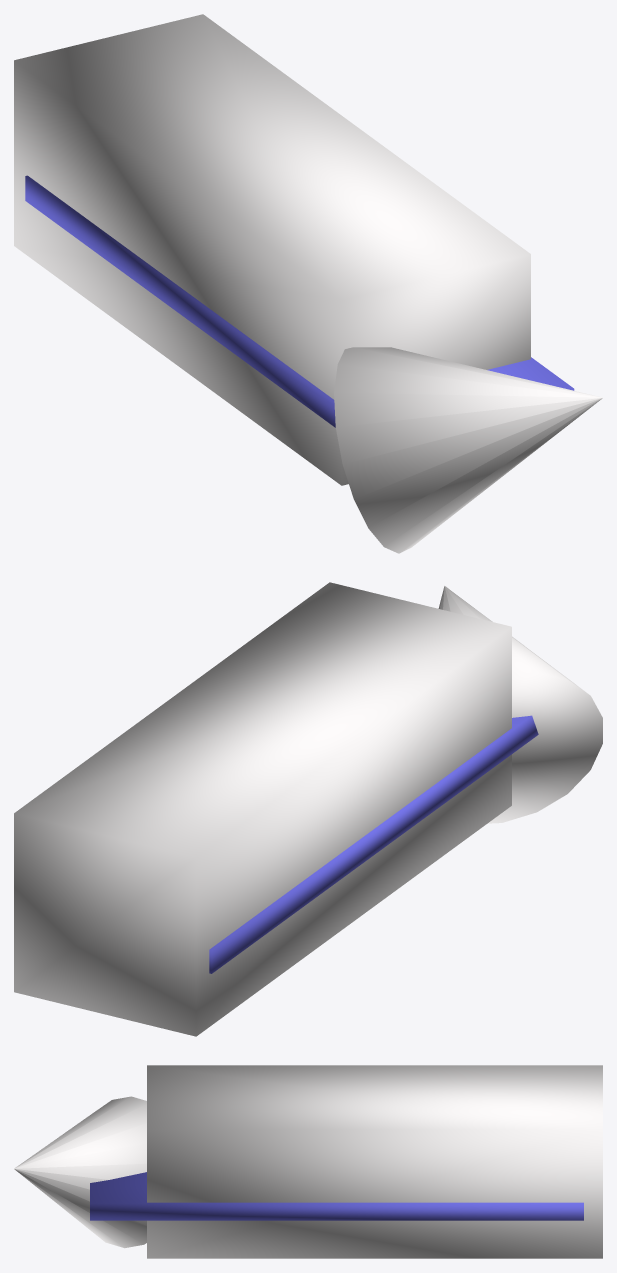
File: bullet_train.glb
The picture shows the model from 3 angles, top to bottom: view 1: azimuth 30°, elevation 25°; view 2: azimuth 150°, elevation 25°; view 3: azimuth 270°, elevation 25°; orthographic projection. The views are drawn at different scales.
Parts seen in each view (by area): view 1: body, nose, stripe; view 2: body, nose, stripe; view 3: body, stripe, nose.
Part boxes in pixels (left/top/right/bottom): body: left=14, top=14, right=530, bottom=485; nose: left=334, top=347, right=602, bottom=553; stripe: left=25, top=175, right=574, bottom=427; body: left=14, top=582, right=511, bottom=1036; nose: left=438, top=586, right=602, bottom=823; stripe: left=209, top=715, right=538, bottom=973; body: left=147, top=1065, right=602, bottom=1258; stripe: left=90, top=1172, right=583, bottom=1220; nose: left=14, top=1096, right=146, bottom=1248.
Bounding box in the file's own units: 1.01 × 0.9507 × 3.1.
